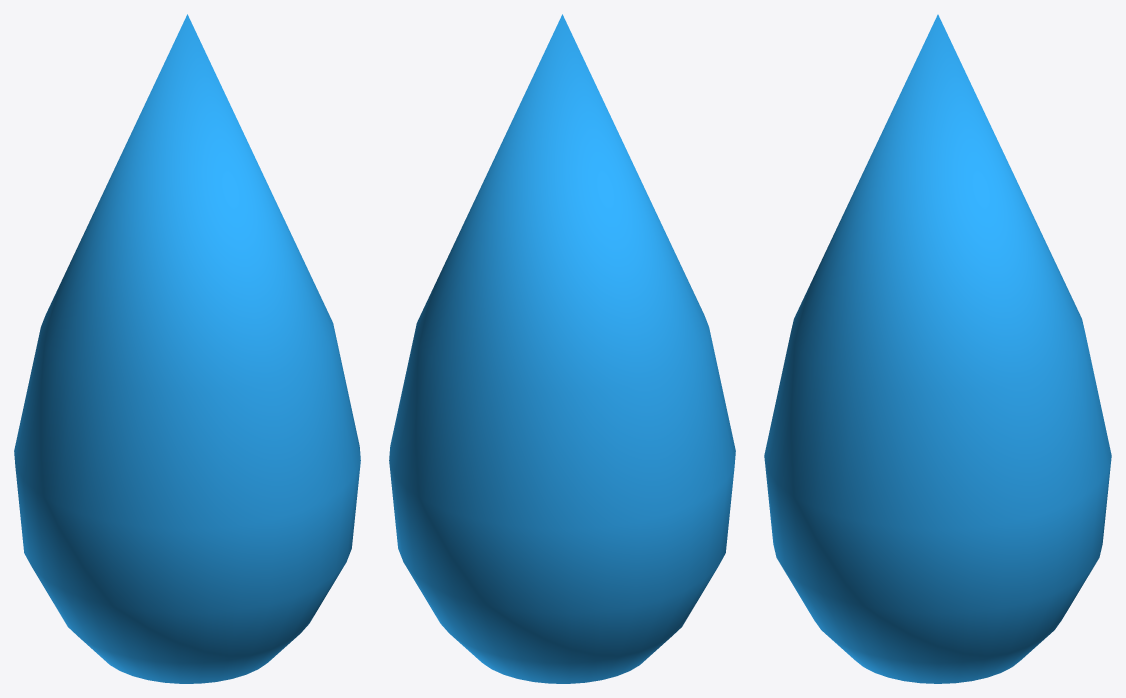
The model's file is waterDrop.obj.
The picture shows the model from 3 angles, left to right: view 1: azimuth 30°, elevation 25°; view 2: azimuth 150°, elevation 25°; view 3: azimuth 270°, elevation 25°; orthographic projection.
Parts seen in each view (by area): view 1: 円錐; view 2: 円錐; view 3: 円錐.
Boxes of the visible parts, x1,y1,x2,y2 form: 円錐: (14,14,360,683); 円錐: (389,14,735,683); 円錐: (764,14,1111,683).
Bounding box in the file's own units: 1.66 × 3.41 × 1.66.
Materials: 1 (1 with a texture image).
